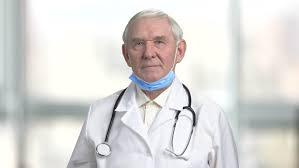Wore Mask Incorrectly: (119, 9, 186, 95)
